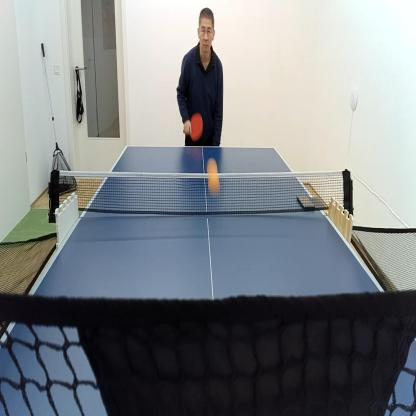Ball: (207, 158, 220, 194)
